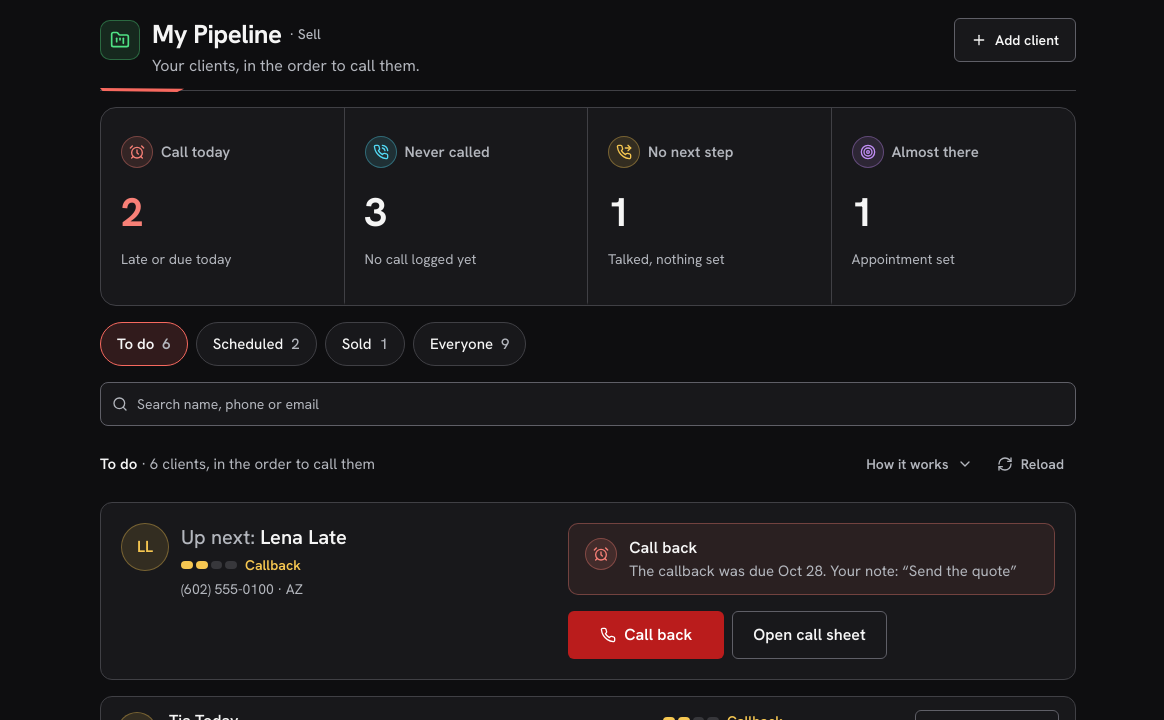
it: My Pipeline › puts the list in the address bar, and a second tap on a number goes back to To do
Expected: the heading "Up next: Lena Late" is shown, [181,524,347,550]
Click the button "No next step 1 Talked, nothing set" at (710, 206), box [588,108,832,305]
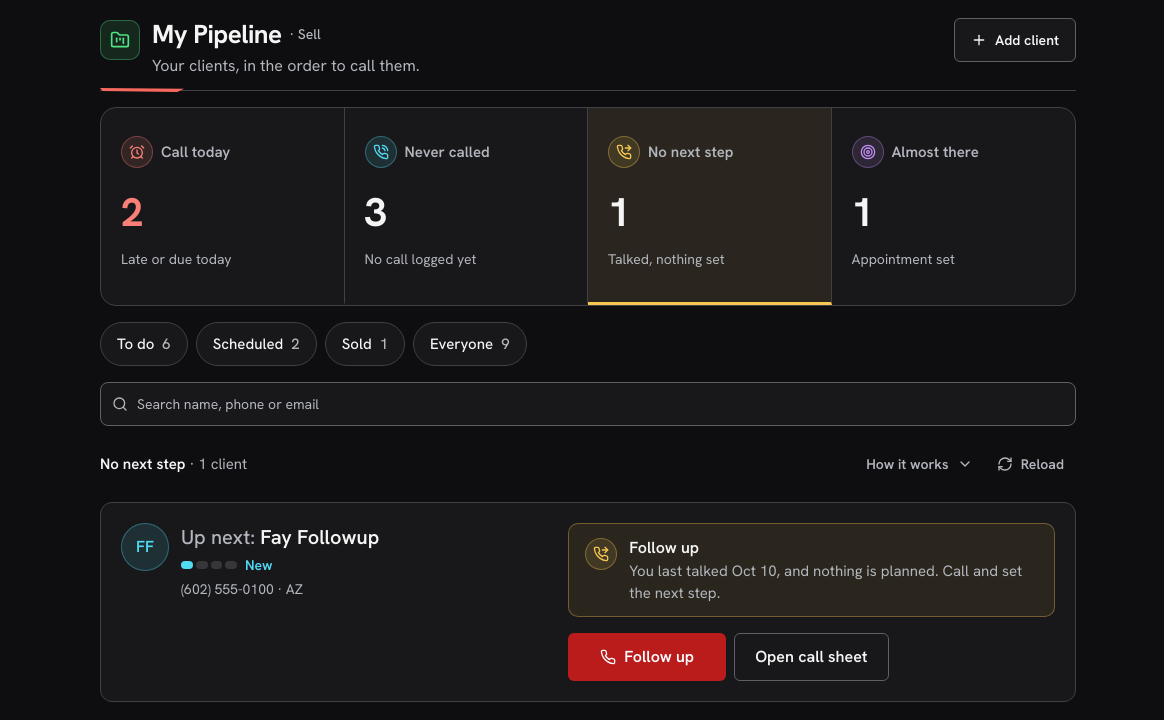
Expected: the button "No next step 1 Talked, nothing set" is pressed
Click the button "No next step 1 Talked, nothing set" at (710, 206), box [588,108,832,305]
(page scrolled)
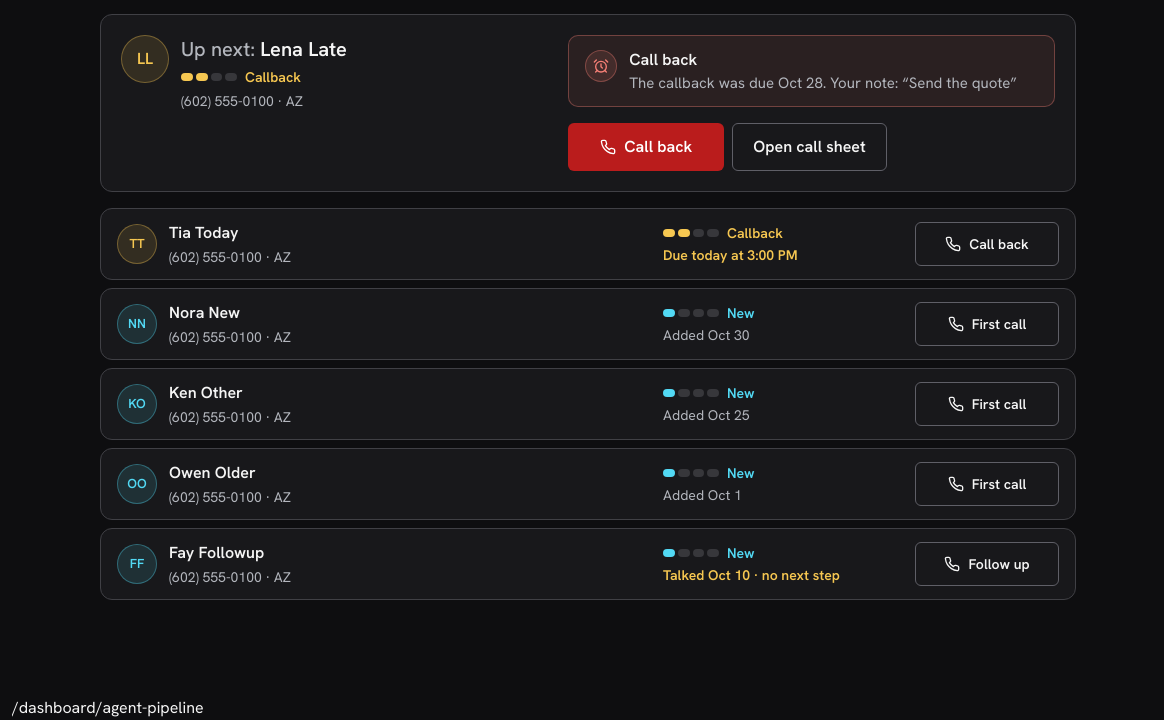
Expected: the text with test id "location" reads "/dashboard/agent-pipeline", [12,697,204,718]
